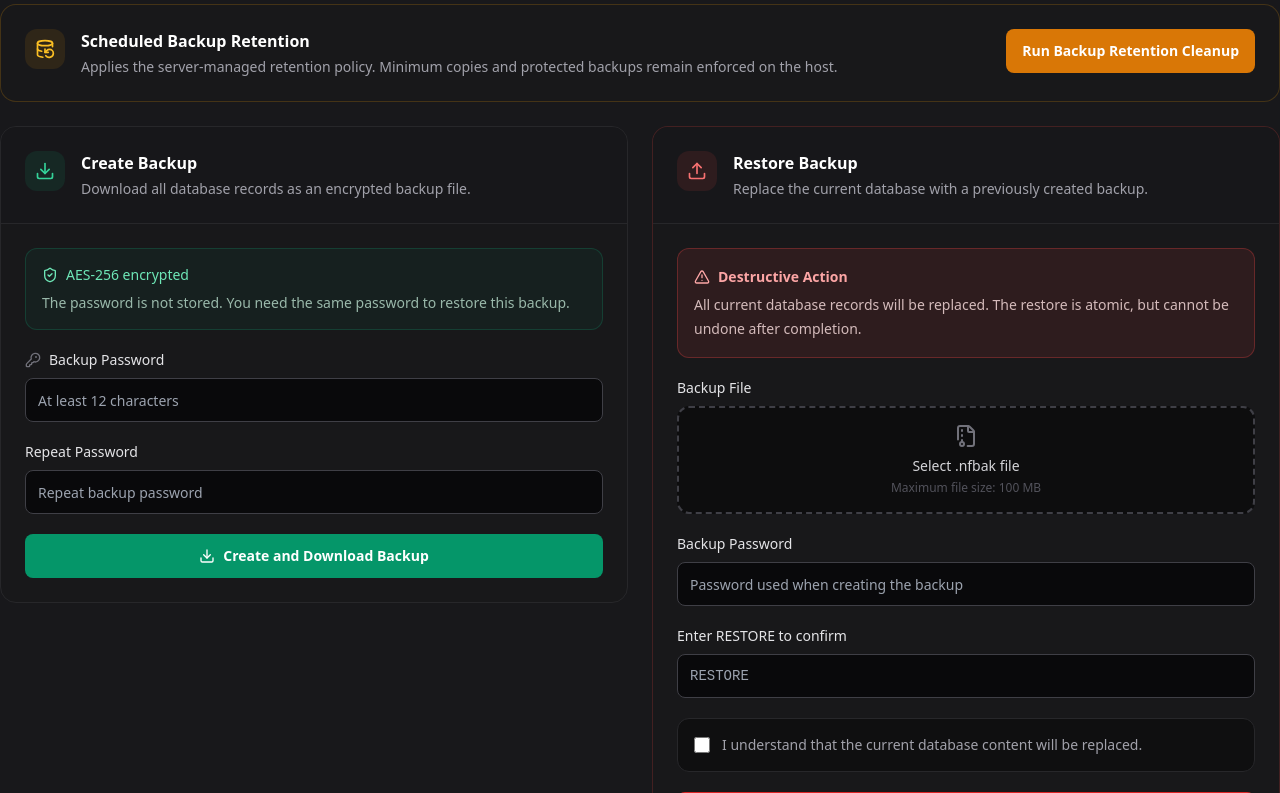
admin backups page › downloads an encrypted backup
(page scrolled)
In the password field with placeholder "At least 12 characters" below "AES-256 encrypted": (314, 400) [25,378,603,422], type "secure-backup-password"
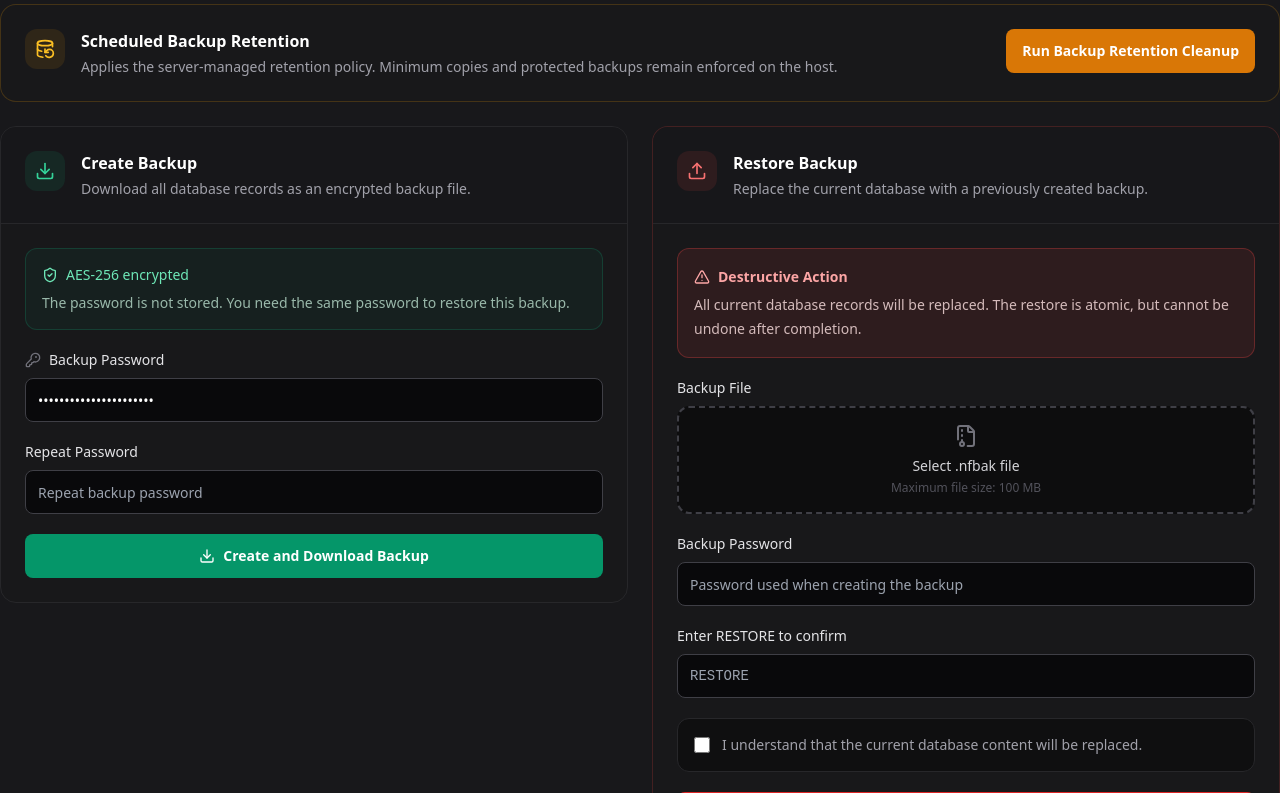
In the password field with placeholder "Repeat backup password": (314, 492) [25,470,603,514], type "secure-backup-password"
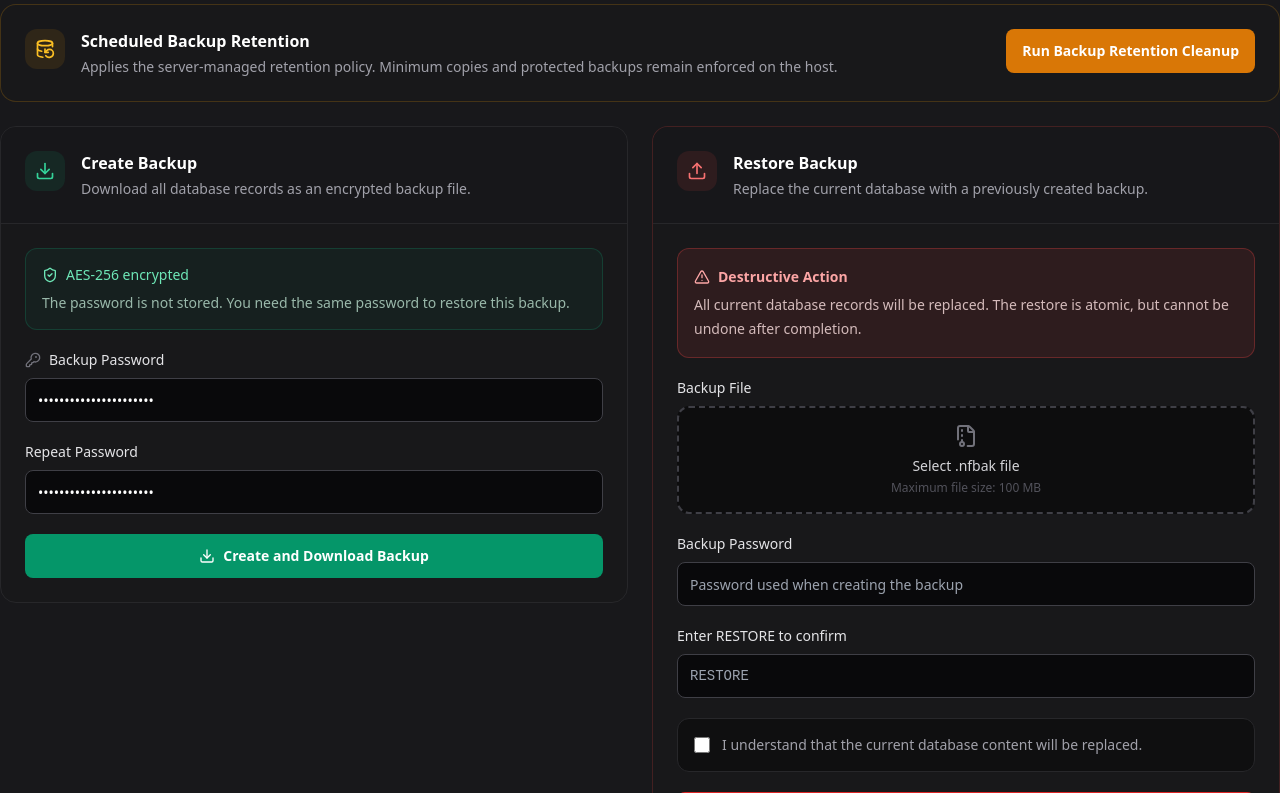
Click the button "Create and Download Backup": click(314, 556) [25,534,603,578]
(page scrolled)
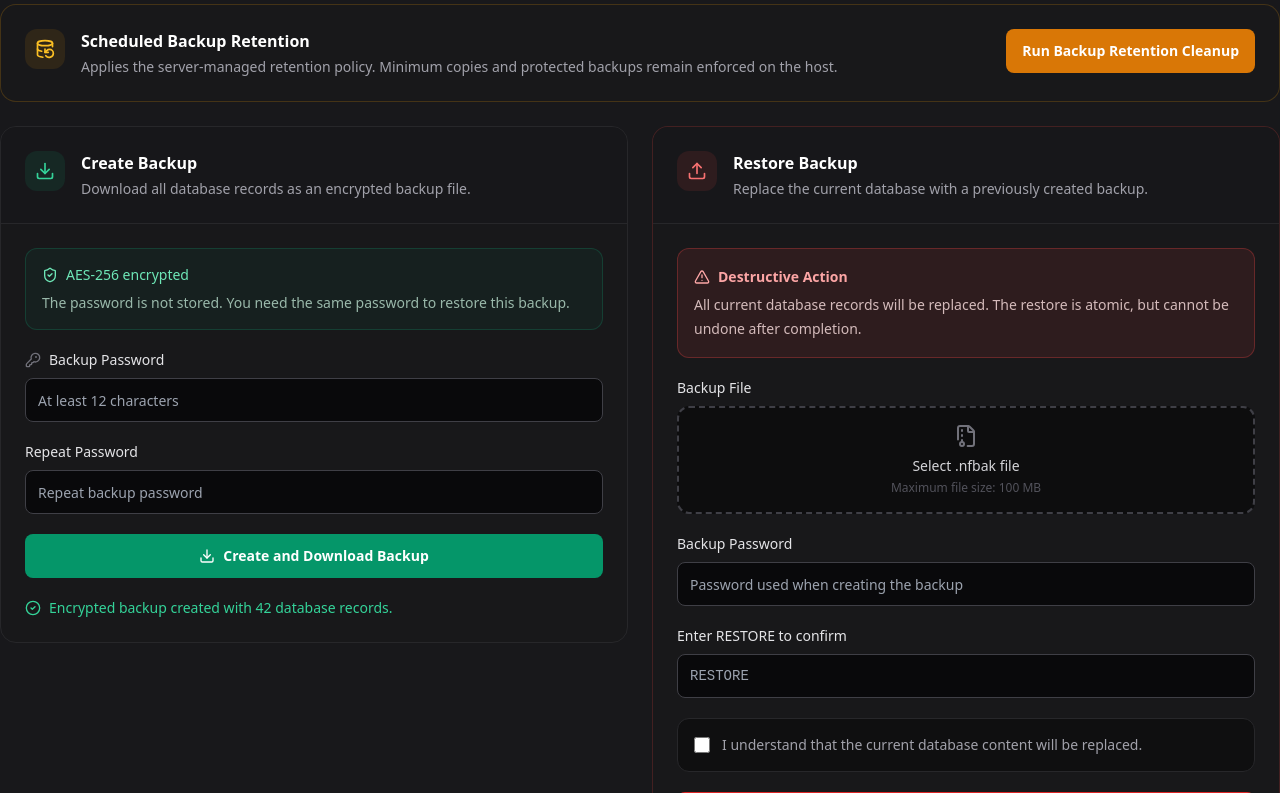
Now the element showing "Encrypted backup created with 42 database records." is shown, box [25,598,392,617]
